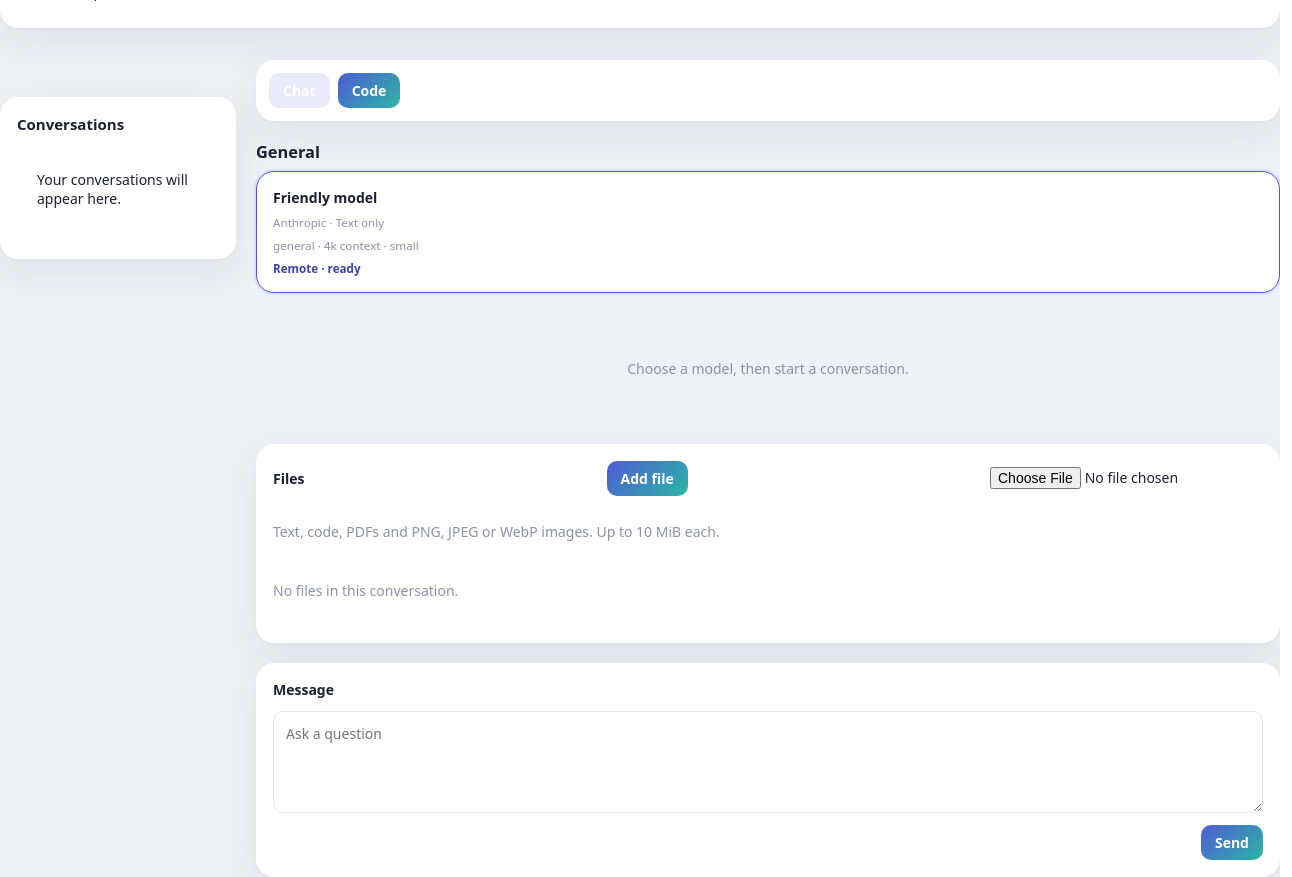
Test: preserves the draft when admission refuses the send
The width and height of the screenshot is (1292, 877).
(page scrolled)
Expected: the text "Friendly model" is shown, left=273, top=188, right=377, bottom=207
In the text box labelled "Message": (768, 762) left=273, top=711, right=1263, bottom=813, type "Keep me"
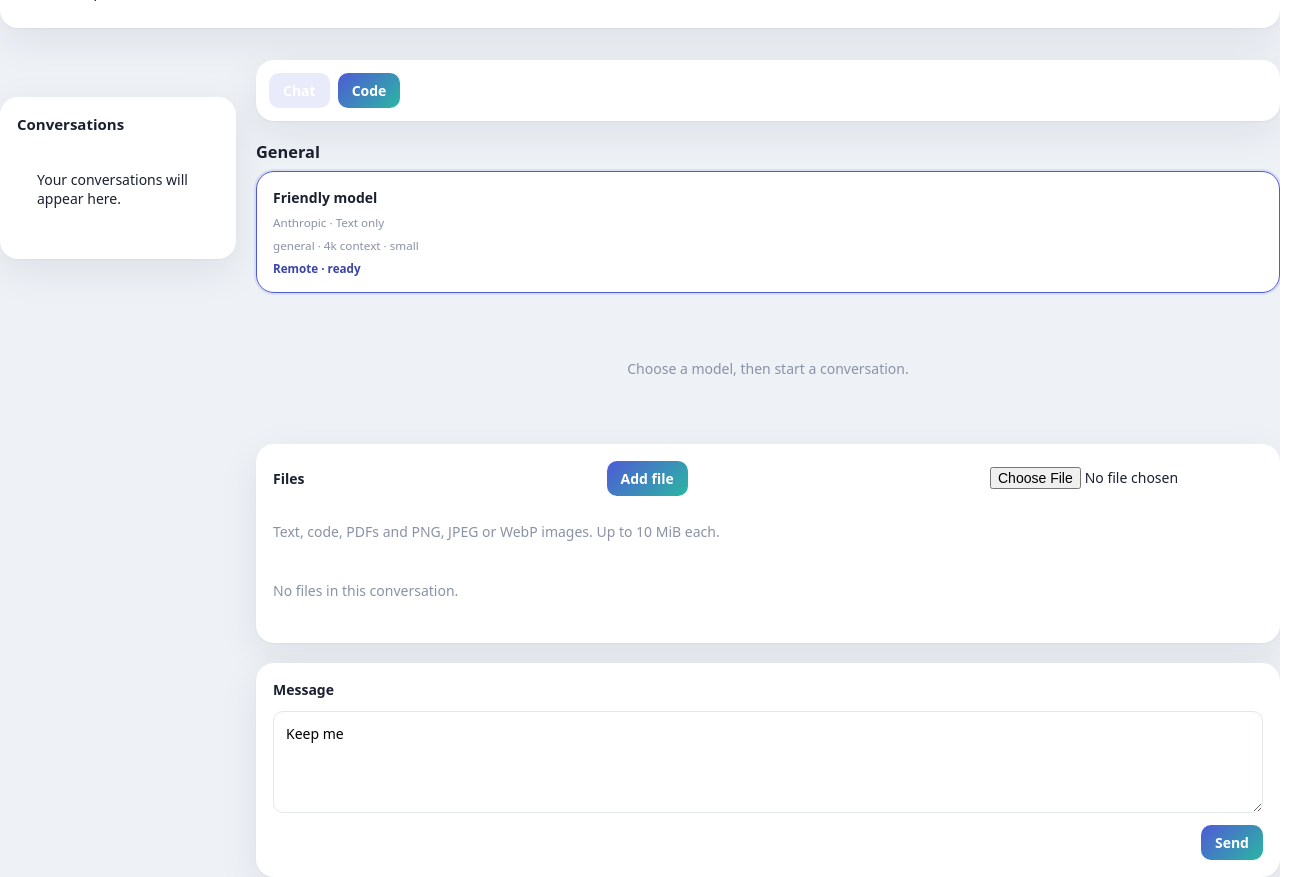
Click the button "Send": (1232, 842) left=1201, top=825, right=1263, bottom=860
(page scrolled)
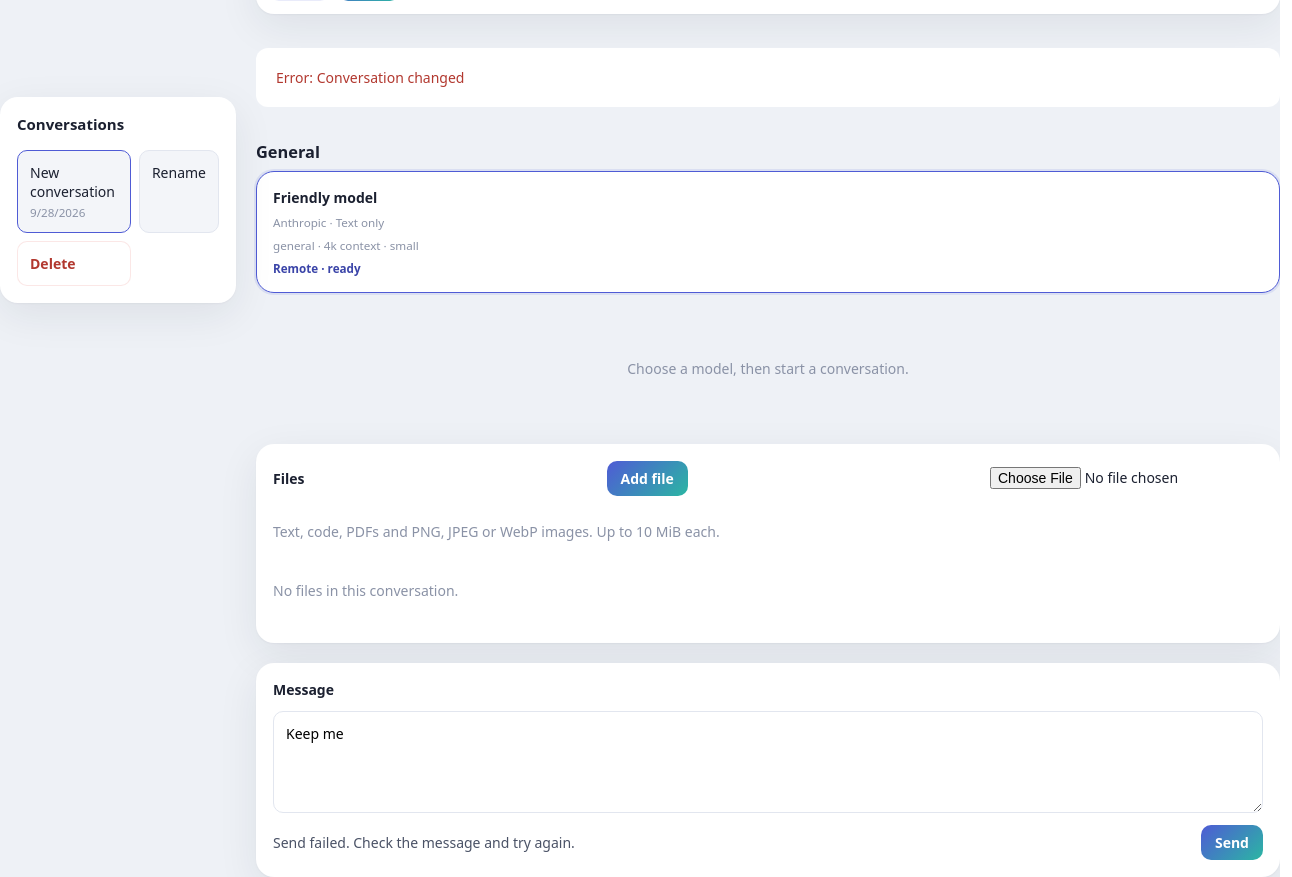
Expected: the message "Error: Conversation changed" is shown, left=256, top=48, right=1280, bottom=107
